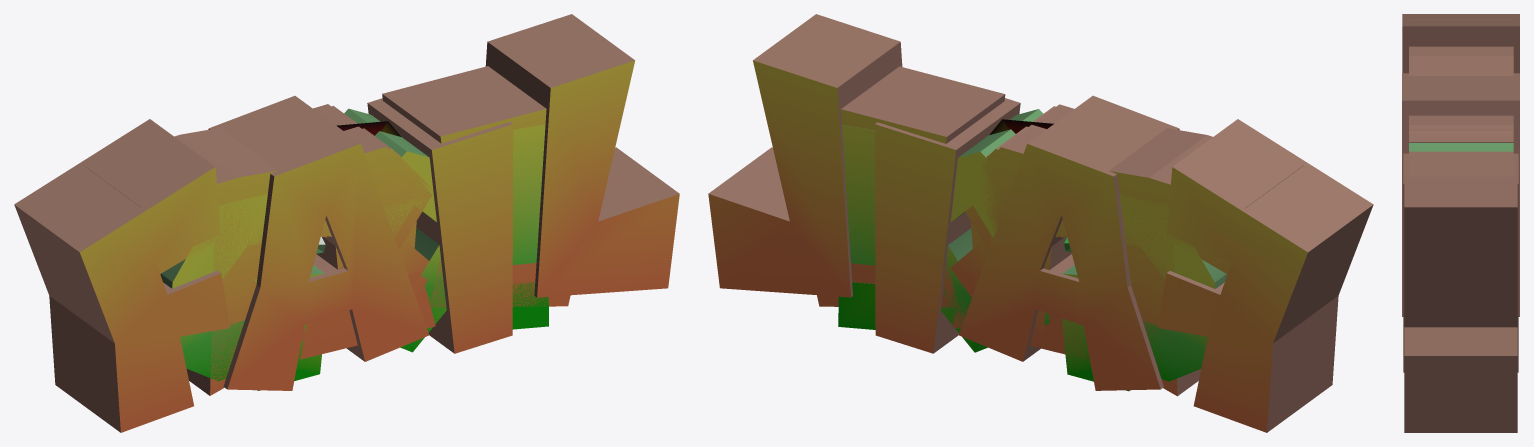
The picture shows the model from 3 angles, left to right: view 1: azimuth 30°, elevation 25°; view 2: azimuth 150°, elevation 25°; view 3: azimuth 270°, elevation 25°; orthographic projection. The views are drawn at different scales.
Parts seen in each view (by area): view 1: part26, part5, part4, part2, part3; view 2: part26, part4, part5, part2, part1, part3; view 3: part26, part5, part2, part3, part4.
Boxes of the visible parts, left/top/right/bottom form: part26: left=14, top=14, right=679, bottom=432; part5: left=83, top=66, right=570, bottom=395; part4: left=160, top=108, right=548, bottom=390; part2: left=300, top=104, right=435, bottom=359; part3: left=302, top=105, right=432, bottom=342; part26: left=708, top=14, right=1373, bottom=432; part4: left=838, top=109, right=1227, bottom=391; part5: left=817, top=66, right=1303, bottom=396; part2: left=952, top=104, right=1086, bottom=359; part1: left=987, top=152, right=1071, bottom=342; part3: left=951, top=106, right=1060, bottom=343; part26: left=1402, top=14, right=1519, bottom=432; part5: left=1409, top=19, right=1513, bottom=176; part2: left=1409, top=115, right=1513, bottom=129; part3: left=1409, top=129, right=1513, bottom=141; part4: left=1409, top=143, right=1513, bottom=151.
Bounding box in the file's own units: 2.62 × 1.04 × 0.4971.
